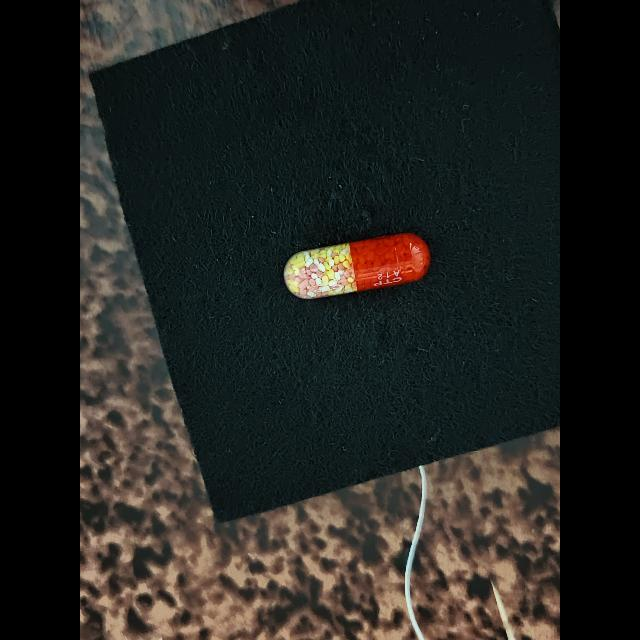Intact Capsule: (284, 233, 431, 299)
